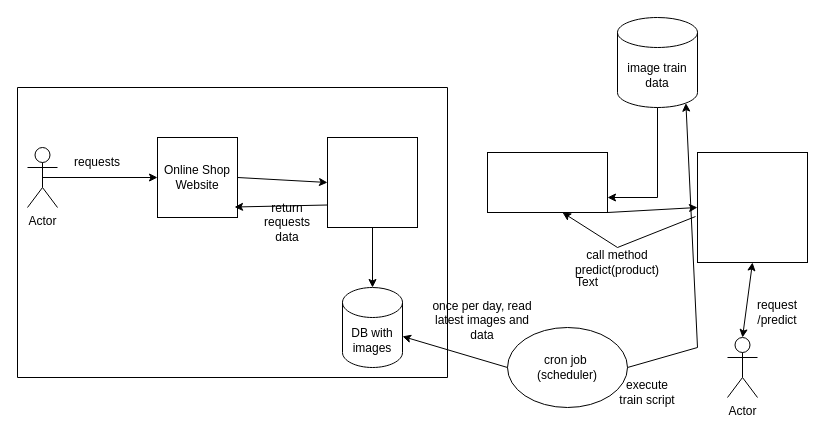
The diagram is 825 pixels wide and 436 high, and some of its shapes have lost their labels. Here are the shapes that lost their labels. From the top down, the centre of each, then its label:
At point 372,182: "shop-backend-service".
At point 547,182: "refunded items predictor".
At point 752,207: "refund-item-image-classification backend service (API)".
